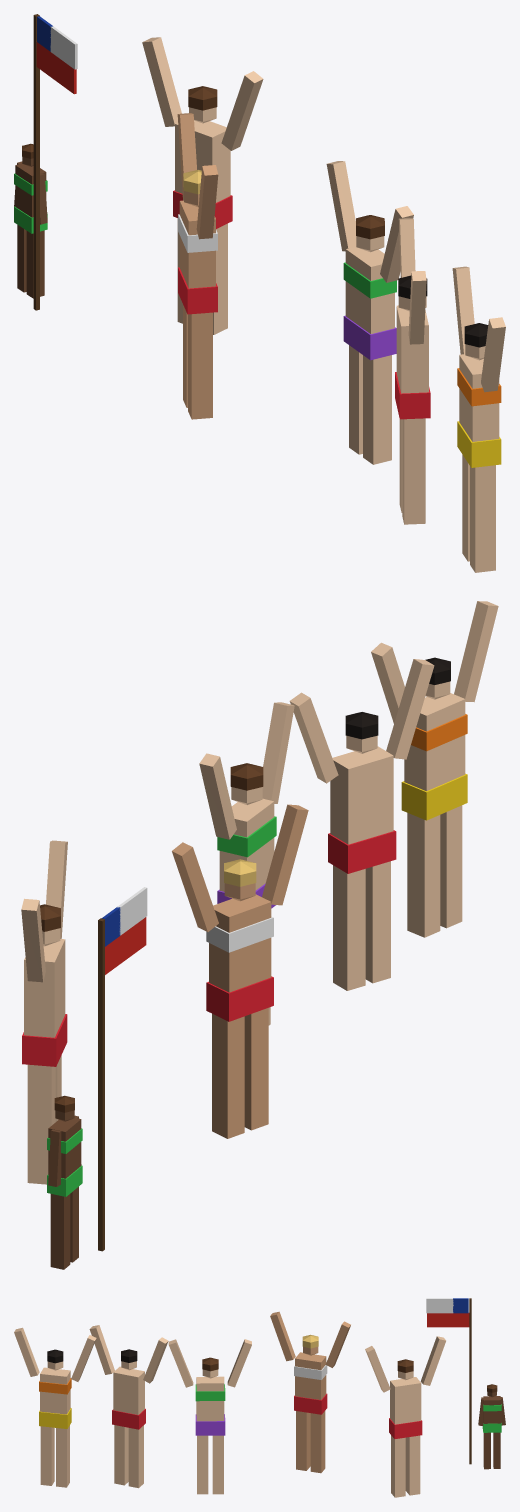
Rendered from publico_playa_3.obj.
3 views of the same model, one above another, from view 1: azimuth 30°, elevation 25°; view 2: azimuth 150°, elevation 25°; view 3: azimuth 270°, elevation 25° (orthographic). The views are drawn at different scales.
Parts seen in each view (by area): view 1: publico_playa_3; view 2: publico_playa_3; view 3: publico_playa_3.
Part boxes in pixels (x1,y1,x2,y2): publico_playa_3: (14, 14, 505, 572); publico_playa_3: (21, 601, 498, 1269); publico_playa_3: (14, 1298, 505, 1497).
Bounding box in the file's own units: 1.07 × 2.1 × 5.67.
